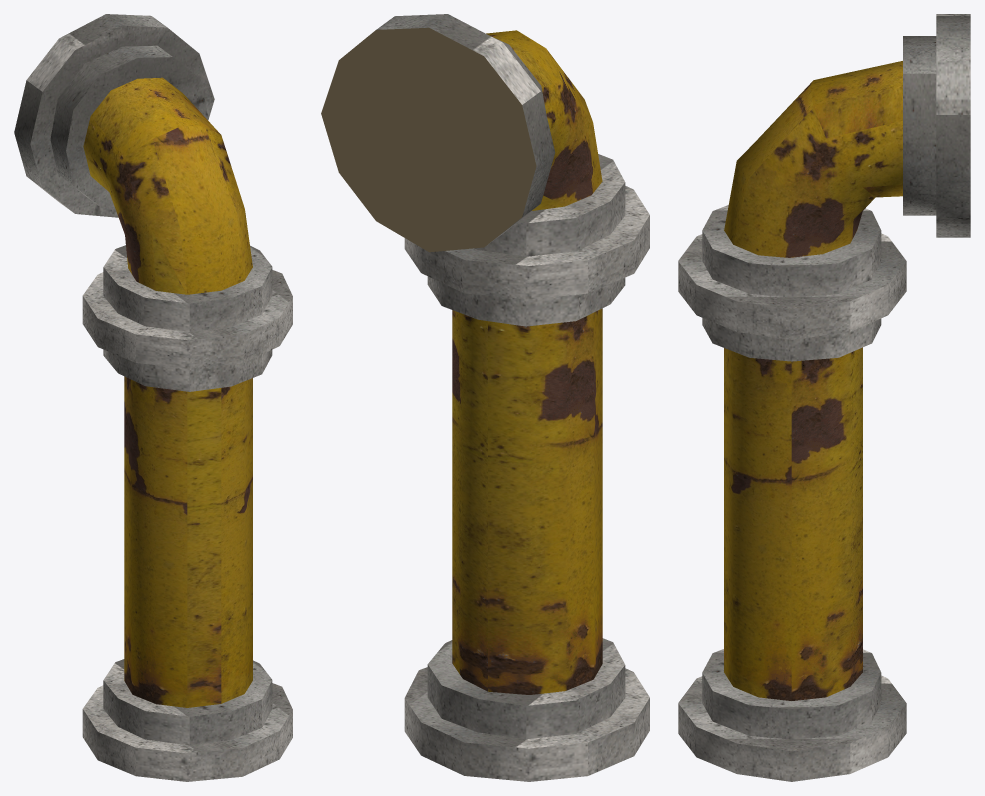
Rendered from phaaks.obj.
3 renders of one model, left to right at view 1: azimuth 30°, elevation 25°; view 2: azimuth 150°, elevation 25°; view 3: azimuth 270°, elevation 25°, orthographic. The views are drawn at different scales.
Visible parts, largest first — view 1: Group; view 2: Group; view 3: Group.
Boxes of the visible parts, x1,y1,x2,y2 form: Group: (14,14,292,781); Group: (321,14,649,781); Group: (678,14,970,781).
Size of the model in its own units: 65.04 by 223 by 83.5.
